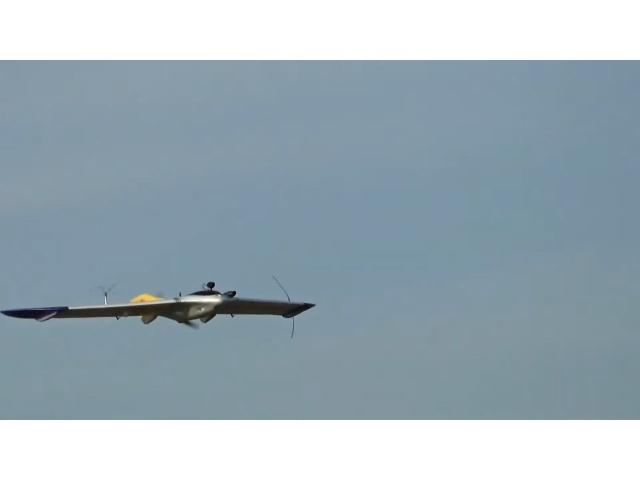Anti-Drone: (0, 282, 316, 330)
